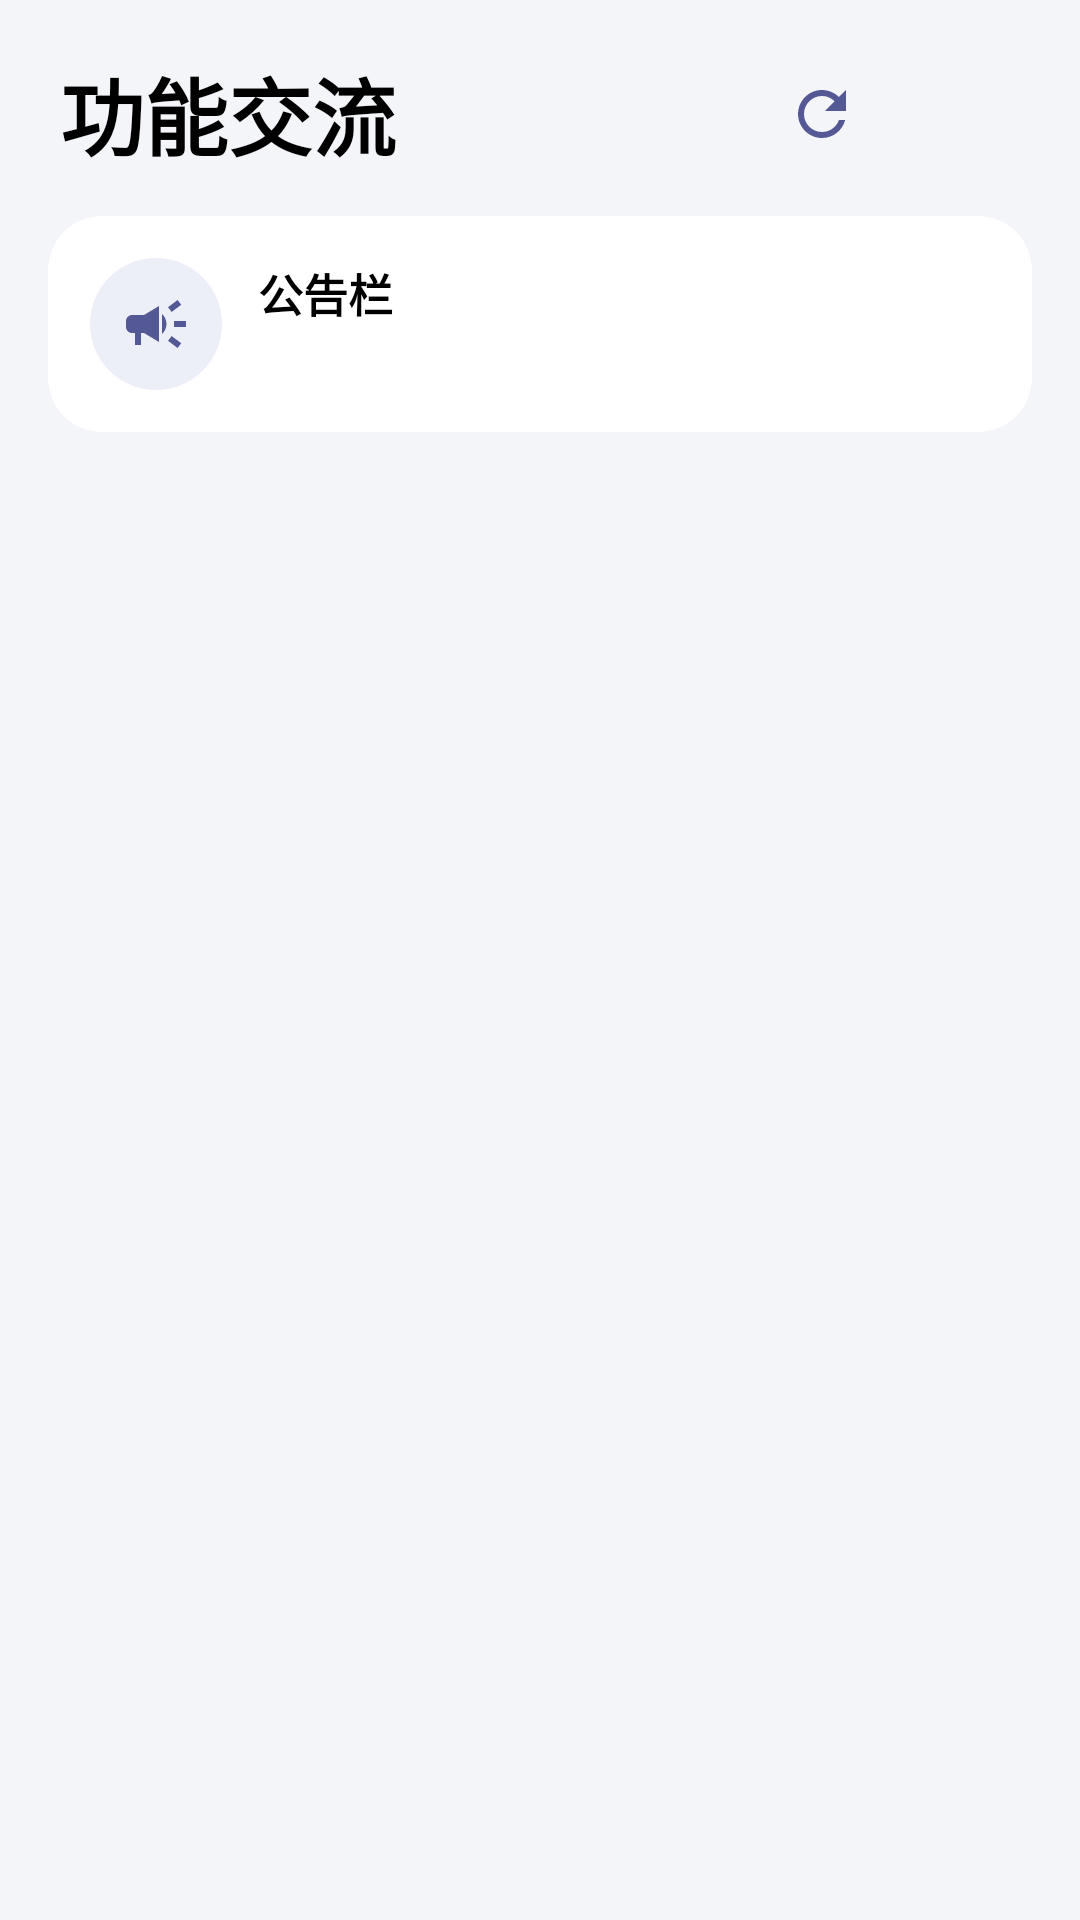

Where to tap for icons on this 1080 × 1920 app screen, as point (x, y):
刷新: point (822, 114)
